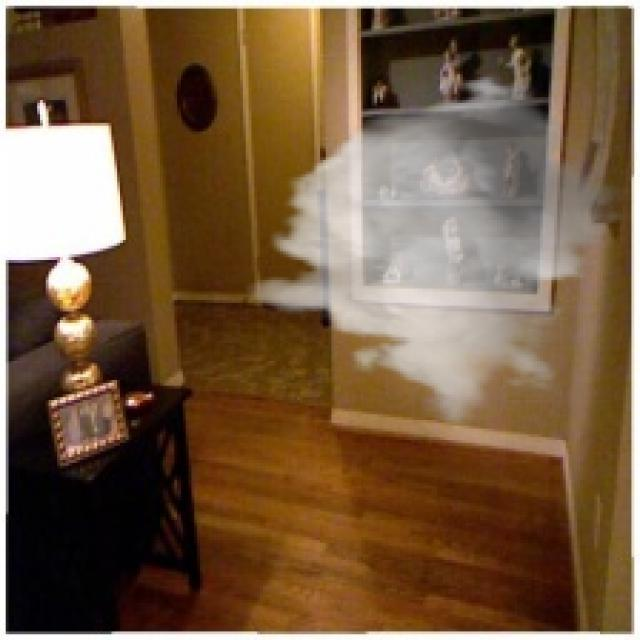Smoke: (246, 71, 632, 426)
